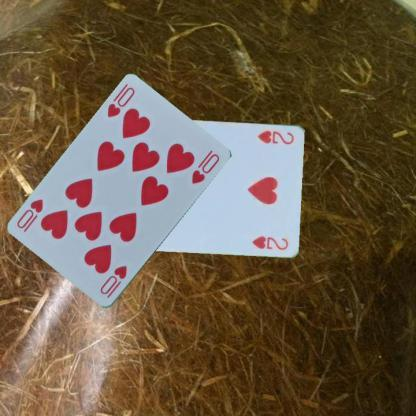10h: (103, 84, 136, 119), (97, 262, 129, 296)
2h: (256, 127, 296, 146)
